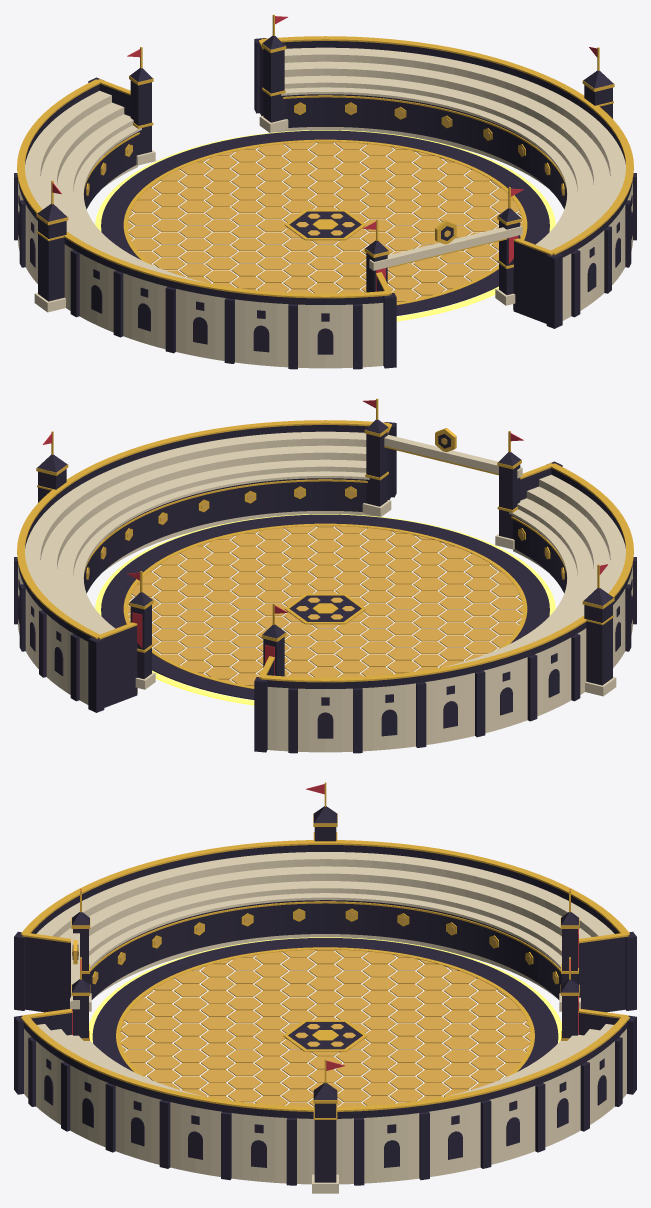
Rendered from Pit_Kolosseum.fbx.
3 views of the same model, one above another, from view 1: azimuth 30°, elevation 25°; view 2: azimuth 150°, elevation 25°; view 3: azimuth 270°, elevation 25° (orthographic). The views are drawn at different scales.
Visible parts, largest first — view 1: Pit_Sandstein, Pit_Schiefer, Pit_Waben, Pit_Gold, Pit_Honig, Pit_Wimpel; view 2: Pit_Sandstein, Pit_Schiefer, Pit_Waben, Pit_Gold, Pit_Honig, Pit_Wimpel; view 3: Pit_Schiefer, Pit_Sandstein, Pit_Waben, Pit_Gold, Pit_Honig.
Boxes of the visible parts, <box> form: Pit_Sandstein: <box>18,47,632,368</box>; Pit_Schiefer: <box>14,35,636,369</box>; Pit_Waben: <box>87,105,563,302</box>; Pit_Gold: <box>17,14,633,304</box>; Pit_Honig: <box>95,130,555,321</box>; Pit_Wimpel: <box>52,16,597,291</box>; Pit_Sandstein: <box>18,431,632,752</box>; Pit_Schiefer: <box>14,419,636,753</box>; Pit_Waben: <box>87,438,563,686</box>; Pit_Gold: <box>17,398,633,688</box>; Pit_Honig: <box>95,514,555,705</box>; Pit_Wimpel: <box>42,400,607,675</box>; Pit_Schiefer: <box>14,806,636,1185</box>; Pit_Sandstein: <box>24,852,626,1193</box>; Pit_Waben: <box>72,912,556,1106</box>; Pit_Gold: <box>21,782,629,1119</box>; Pit_Honig: <box>89,937,561,1042</box>.
Bounding box in the file's own units: 75.8 × 15.8 × 69.29.
